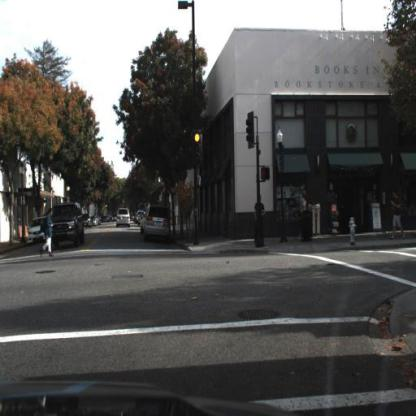car: (47, 202, 89, 254), (142, 201, 171, 246), (26, 215, 47, 247), (29, 217, 49, 243), (116, 207, 132, 232), (116, 208, 131, 230), (83, 214, 93, 231)
pedestrian: (252, 191, 268, 250), (389, 180, 403, 242), (41, 206, 55, 266), (298, 191, 309, 238)
trafficLight-Red: (193, 130, 202, 166)
